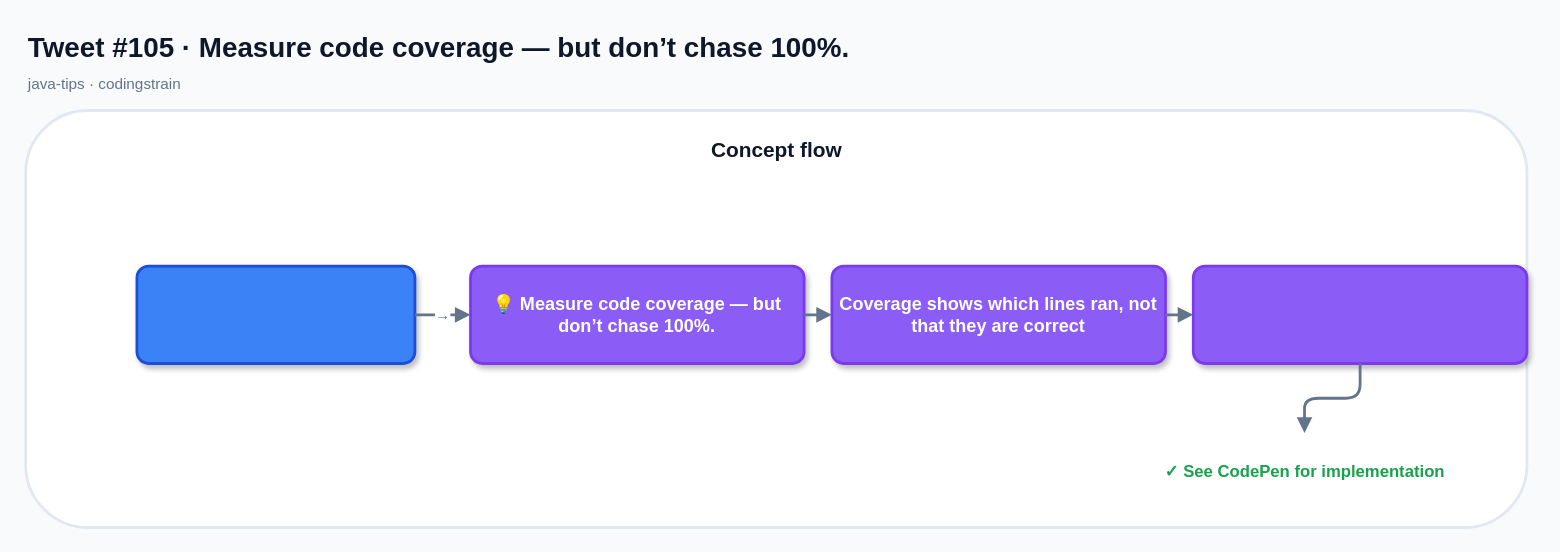
Image size: 1560x552. Some labels were removed from this diagram. The centre of each missing label's shape, as x and y in pixels:
"Problem / context" goes at point (276, 316).
"Weak asserts can pad the % while real bugs stay untested" goes at point (1361, 316).
